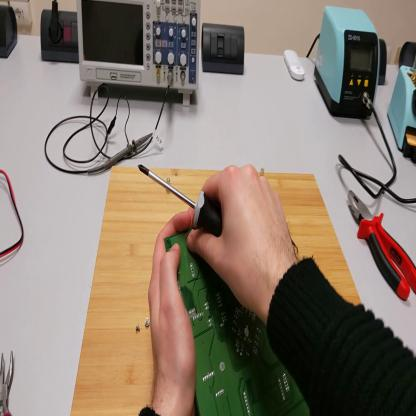hand: (191, 161, 297, 316), (147, 203, 201, 396)
low voltage board: (164, 231, 311, 415)
oscilloscope: (77, 3, 203, 109)
oscilloscope probe tip: (90, 132, 154, 177)
pliers: (349, 189, 416, 301), (2, 349, 16, 416)
screwdriver-: (137, 164, 225, 234)
socket: (40, 10, 81, 65), (2, 4, 19, 60), (379, 36, 389, 85), (401, 45, 416, 69)
welder base: (391, 45, 416, 166)
welder station: (317, 6, 380, 121)
working area: (71, 164, 363, 414)
